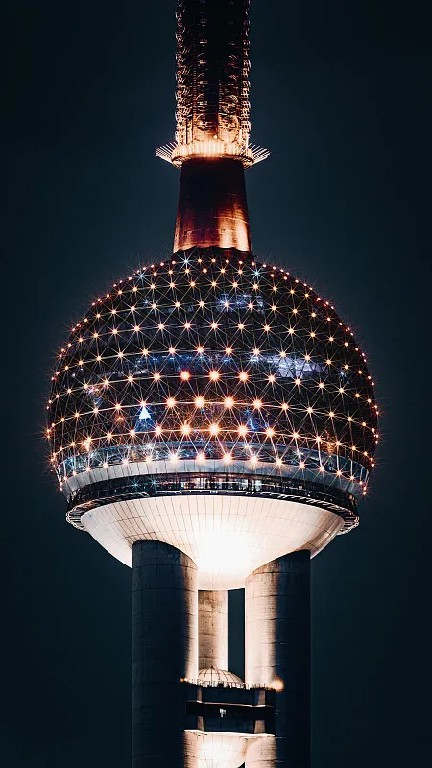Oriental: (42, 1, 381, 768)
